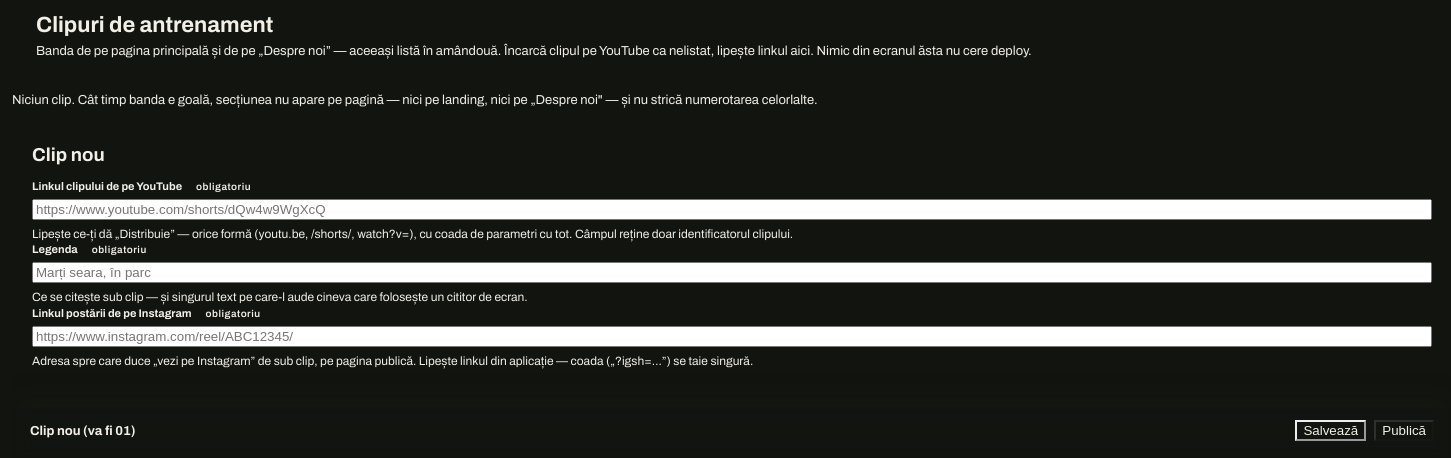
Test: linkul lipit din Instagram › o postare rămâne pe ruta „/p/" — Instagram n-o servește pe cealaltă
Check: the text "Niciun clip" is shown, box [12,93,818,107]
Step 1. Type "https://www.instagram.com/p/QWE45678/?img_index=1" into the field labelled "Linkul postării" → (732, 336), box [32,326,1432,347]
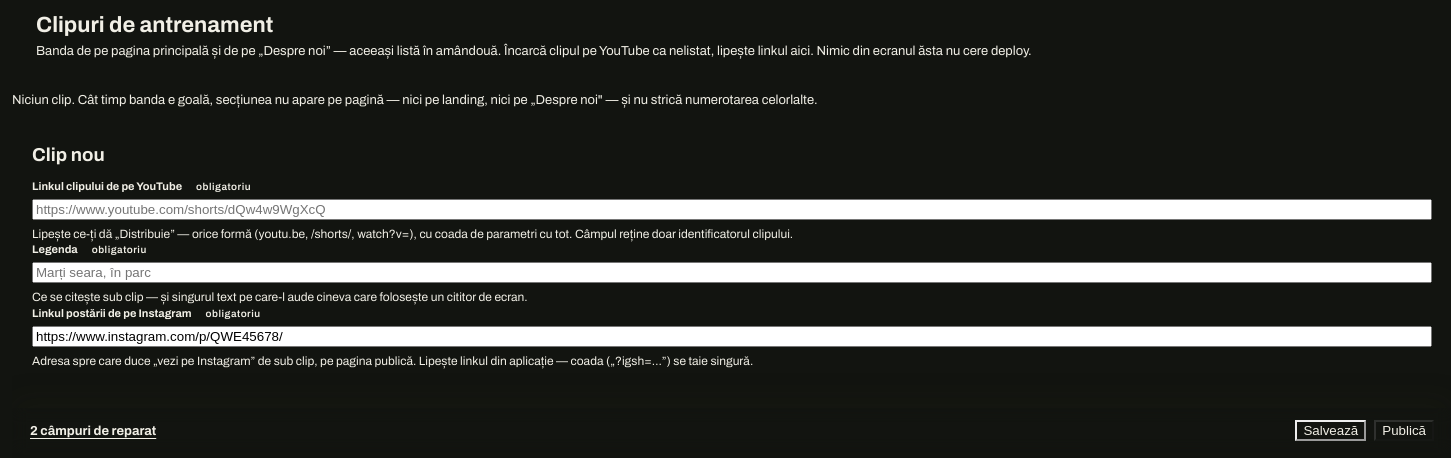
Check: the field labelled "Linkul postării" holds "https://www.instagram.com/p/QWE45678/", box [32,326,1432,347]
